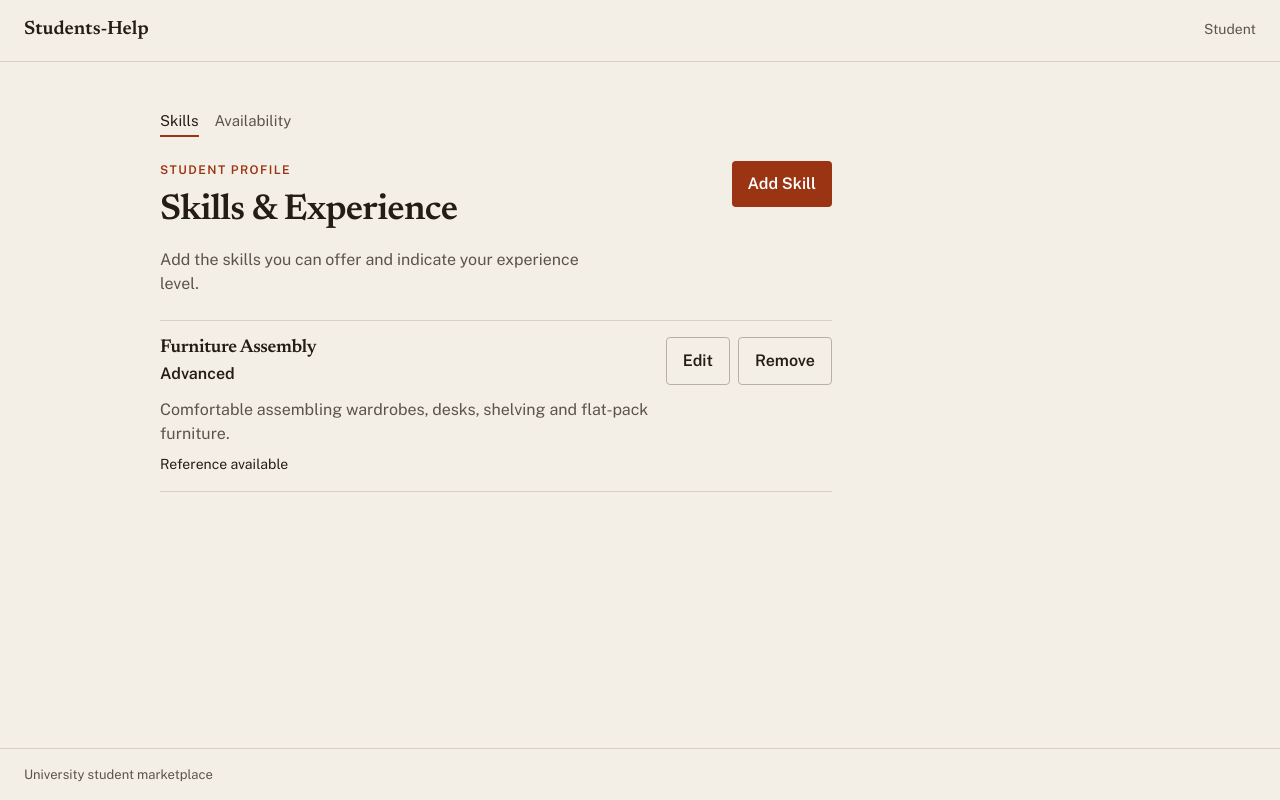
Test: Student skills page › updates a skill from the edit flow
Expected: the heading "Furniture Assembly" is shown, x1=160 y1=338 x2=316 y2=357
Step 1. Click the button "Edit" → (698, 361), box x1=666 y1=337 x2=730 y2=386
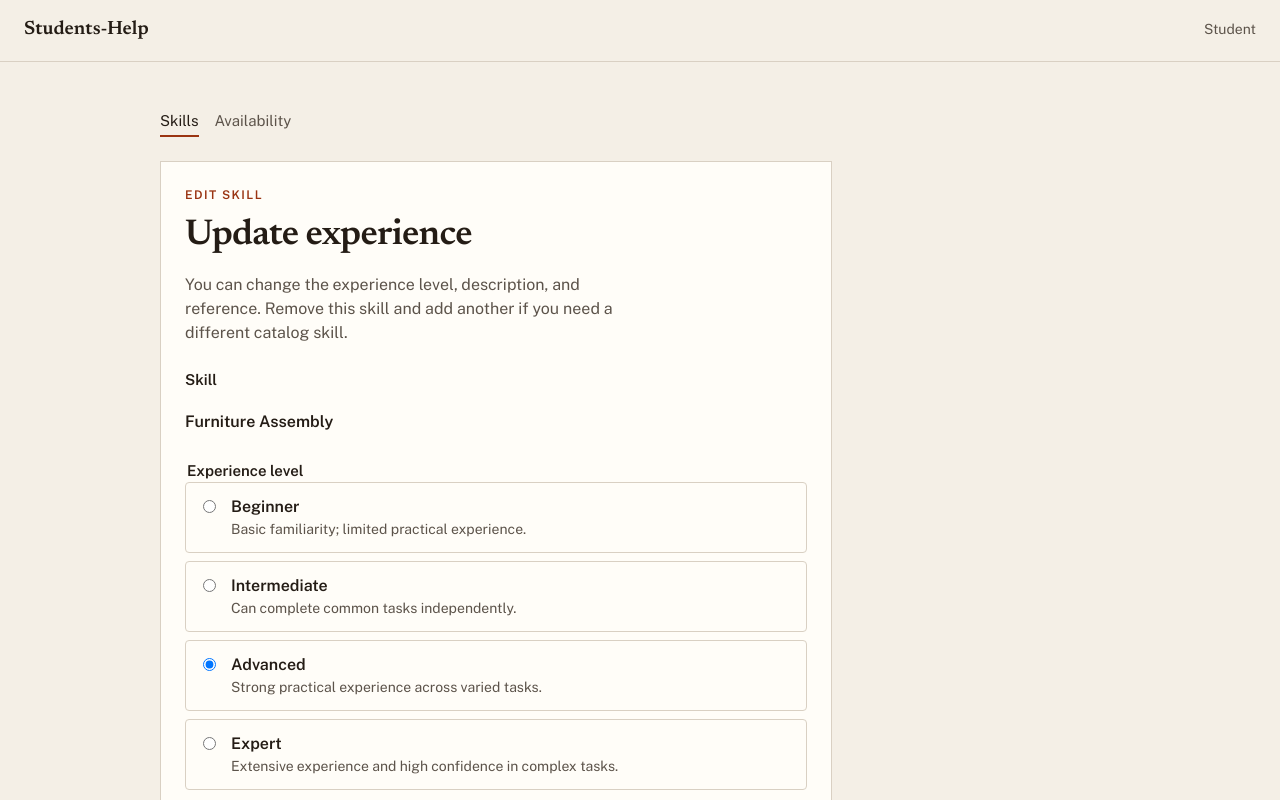
Expected: the text "Furniture Assembly" is shown, x1=185 y1=412 x2=333 y2=431
Expected: the heading "Update experience" is shown, x1=185 y1=218 x2=472 y2=254
Step 2. Click the radio button labelled "Expert" → (210, 743), box x1=203 y1=737 x2=216 y2=750
(page scrolled)
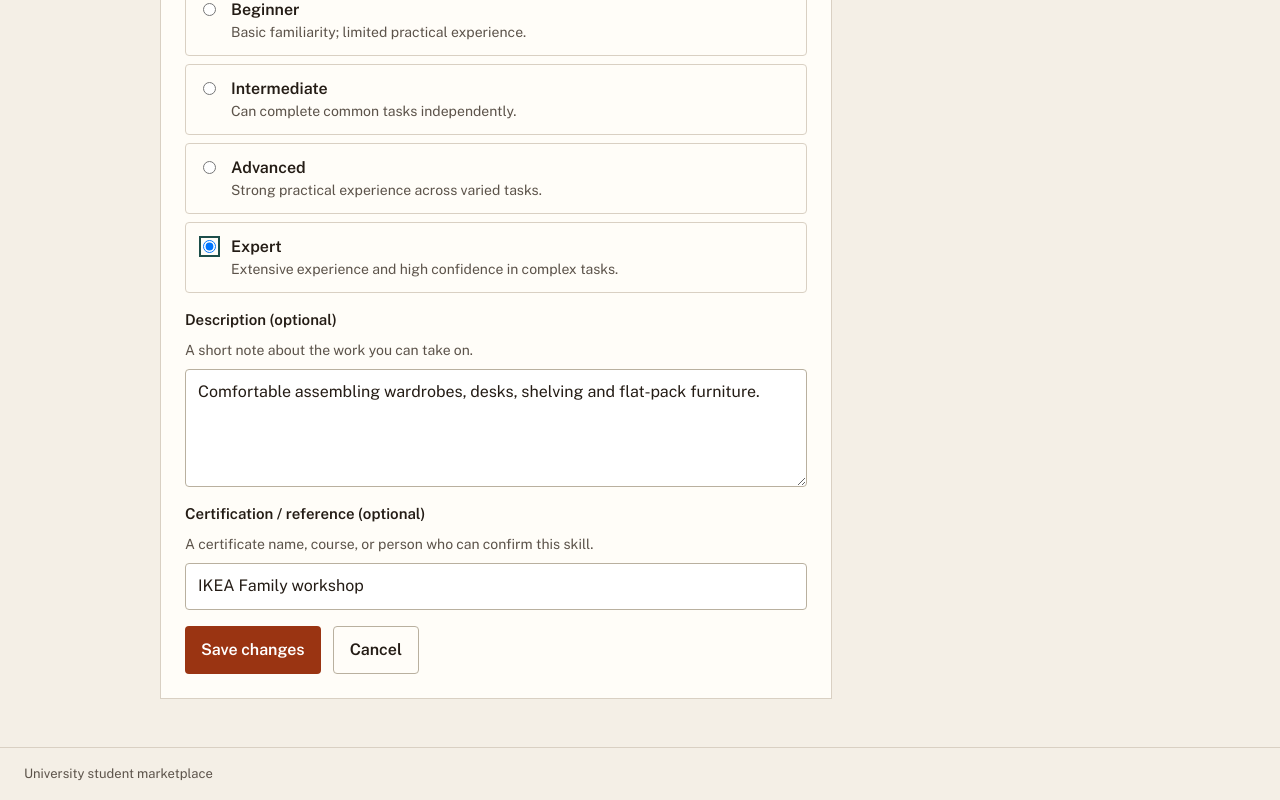
Step 3. Replace the text in the text box labelled "Description (optional)" with "Now including kitchen units." → (496, 428), box x1=185 y1=369 x2=807 y2=487
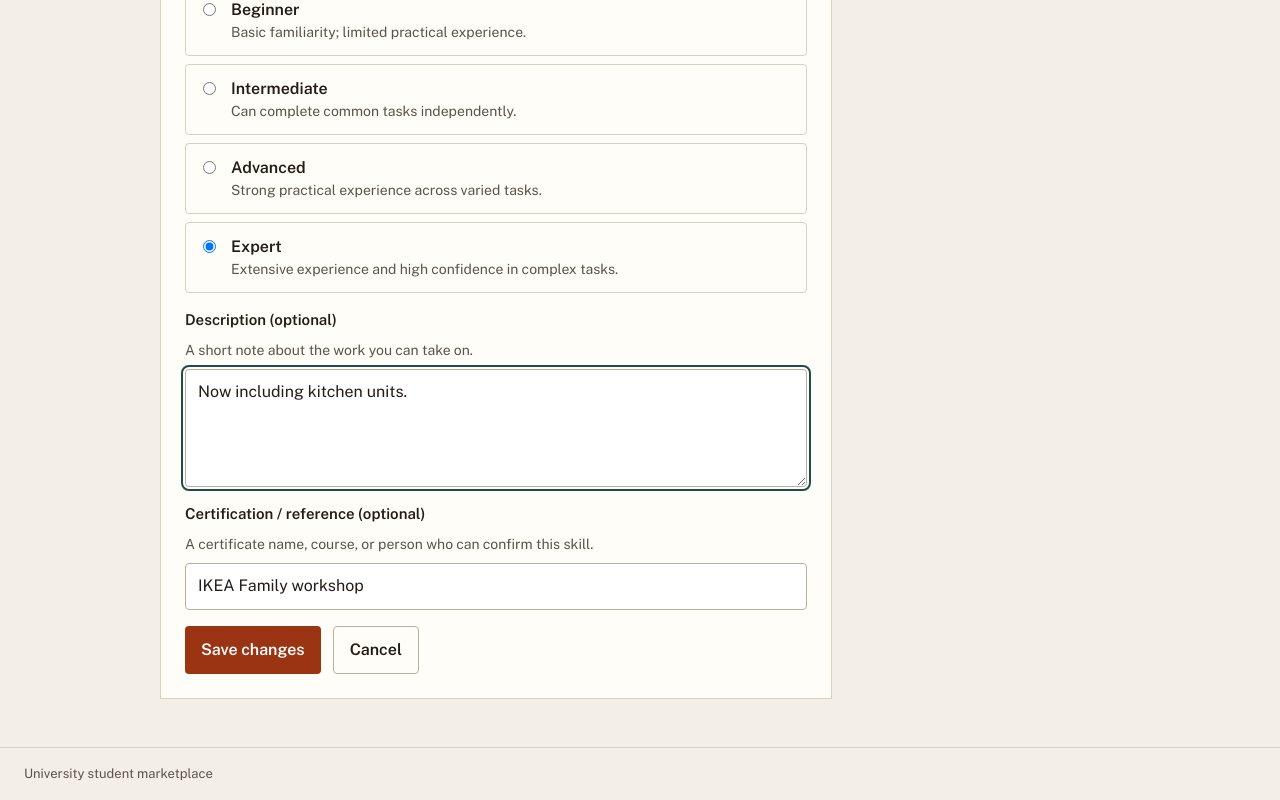
Step 4. Click the button "Save changes" → (253, 650), box x1=185 y1=626 x2=321 y2=674
(page scrolled)
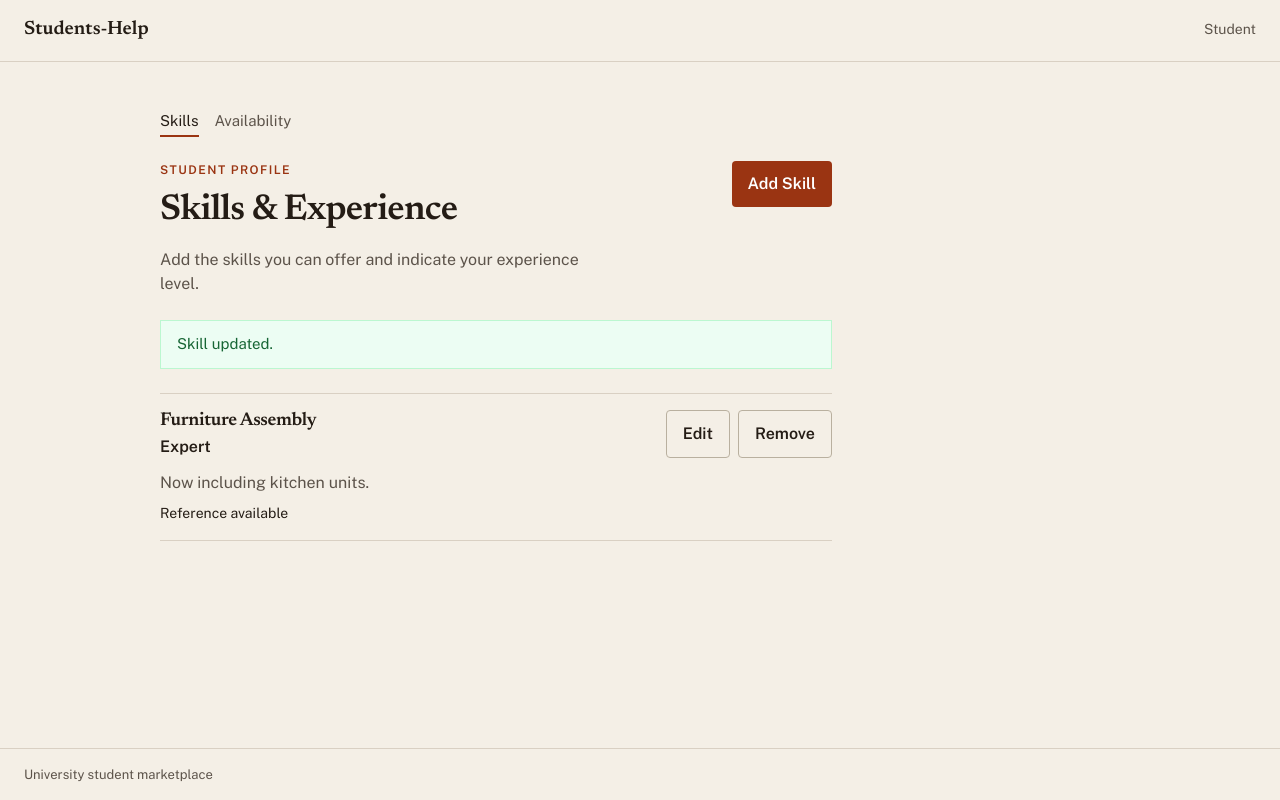
Expected: the text "Expert" is shown, x1=160 y1=437 x2=211 y2=456
Expected: the text "Skill updated." is shown, x1=160 y1=320 x2=832 y2=369
Expected: the text "Now including kitchen units." is shown, x1=160 y1=473 x2=369 y2=492
